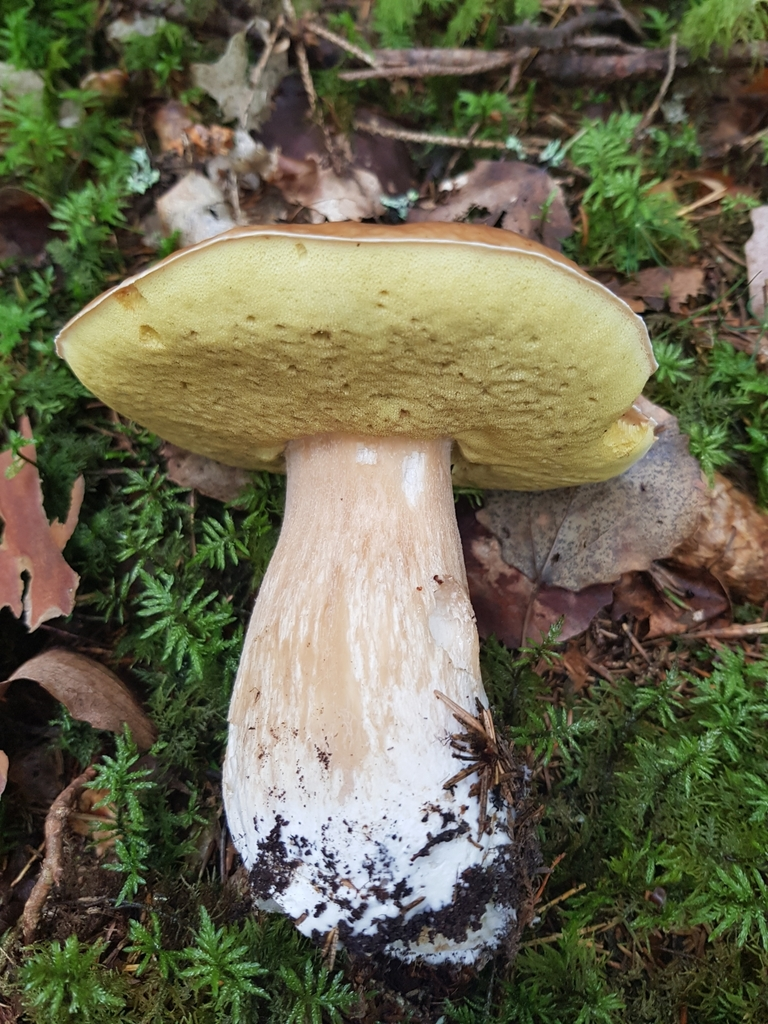stem: (223, 435, 510, 962)
underside: (59, 233, 652, 489)
